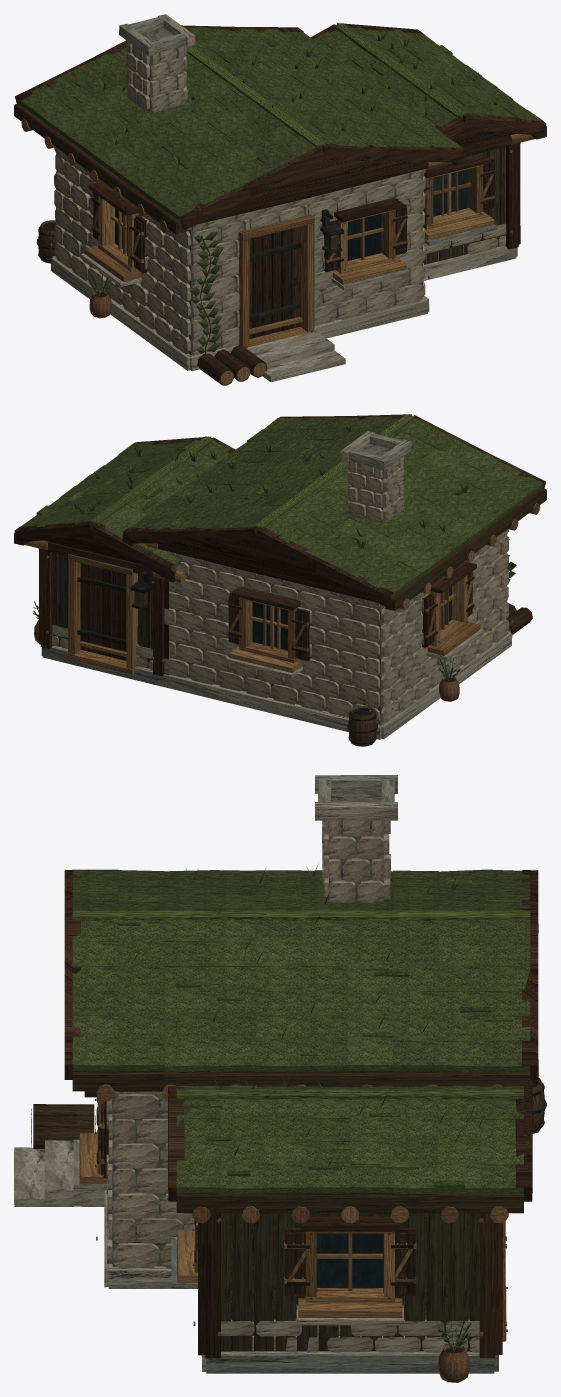
The model's file is 10_smallholder.glb.
3 views of the same model, one above another, from view 1: azimuth 30°, elevation 25°; view 2: azimuth 150°, elevation 25°; view 3: azimuth 270°, elevation 25° (orthographic). The views are drawn at different scales.
Visible parts, largest first — view 1: 10_smallholder; view 2: 10_smallholder; view 3: 10_smallholder.
Part boxes in pixels (x1,y1,x2,y2): 10_smallholder: (14, 14, 546, 385); 10_smallholder: (14, 414, 546, 746); 10_smallholder: (14, 775, 546, 1382).
Size of the model in its own units: 5.51 by 3.35 by 4.37.
Materials: 8 (8 with a texture image).
